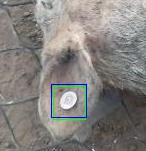text: (53, 86, 85, 119)
